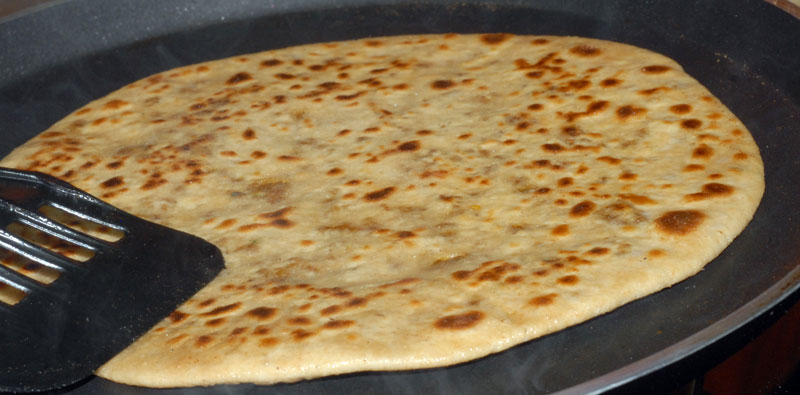aloo_paratha: (1, 36, 774, 393)
